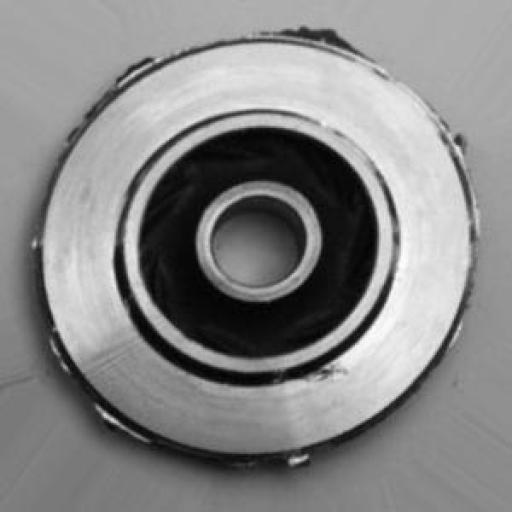defect: (34, 19, 490, 475)
